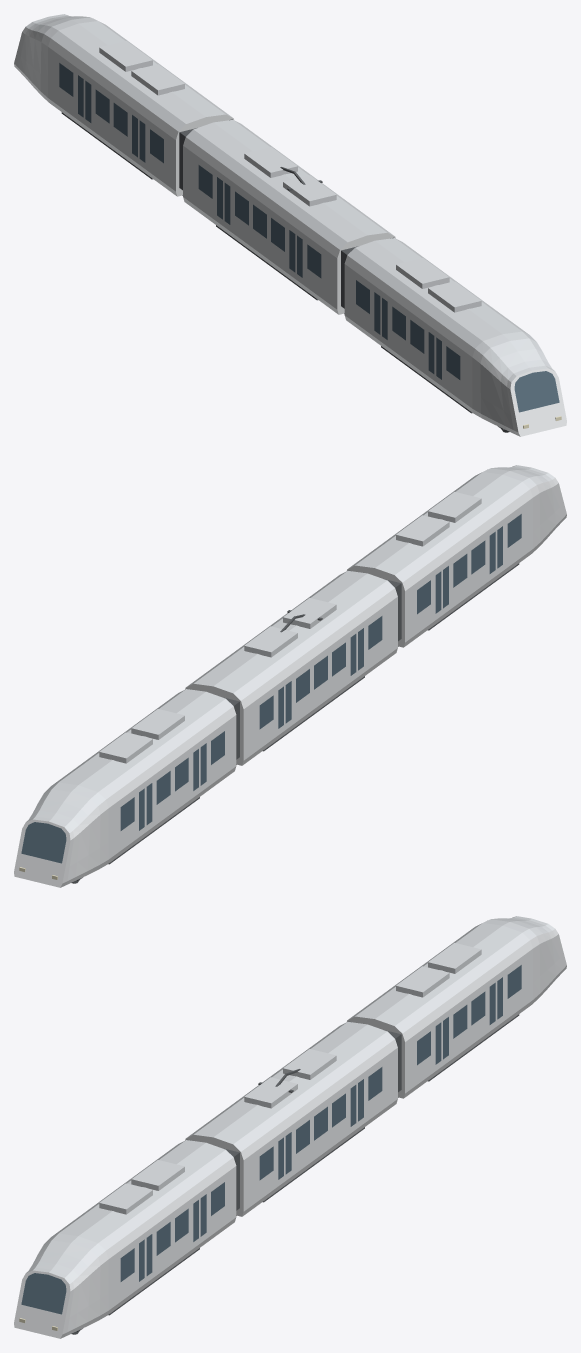
Rendered from ter.glb.
3 renders of one model, top to bottom at view 1: azimuth 30°, elevation 25°; view 2: azimuth 150°, elevation 25°; view 3: azimuth 330°, elevation 25°, orthographic.
Parts seen in each view (by area): view 1: Ter; view 2: Ter; view 3: Ter.
Part boxes in pixels (x1,y1,x2,y2): Ter: [14, 14, 566, 436]; Ter: [14, 465, 566, 887]; Ter: [14, 916, 566, 1338].
Bounding box in the file's own units: 2.93 × 4.18 × 42.
